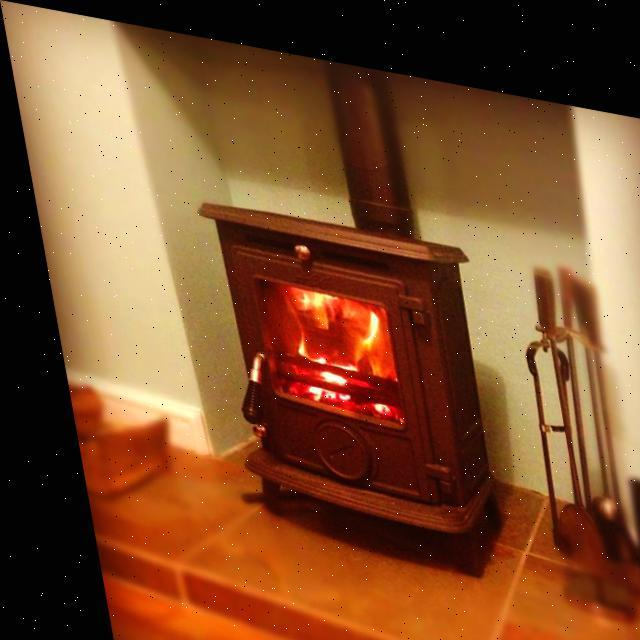Fire: (249, 267, 402, 403)
